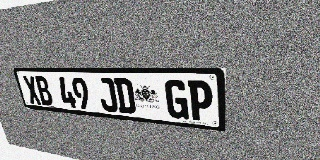4: (56, 77, 77, 108)
9: (70, 77, 92, 110)
B: (34, 76, 54, 106)
D: (113, 78, 136, 114)
G: (164, 80, 189, 120)
J: (96, 78, 119, 112)
P: (188, 80, 213, 122)
X: (22, 76, 42, 105)
